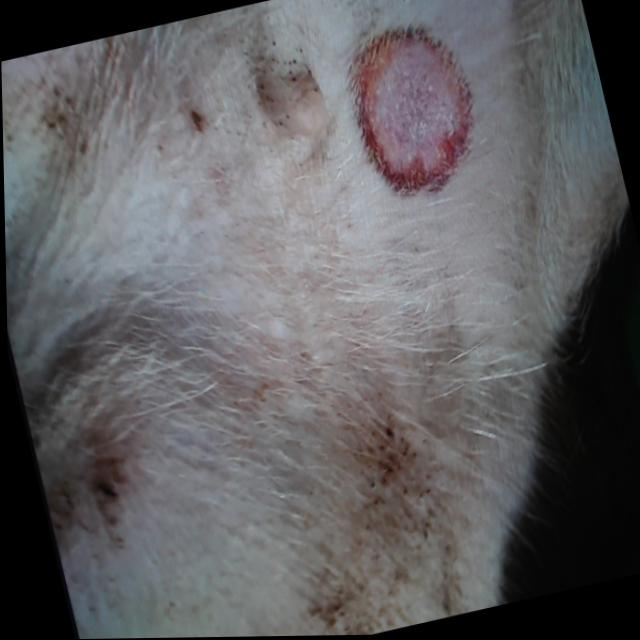ringworm: (311, 0, 518, 236)
